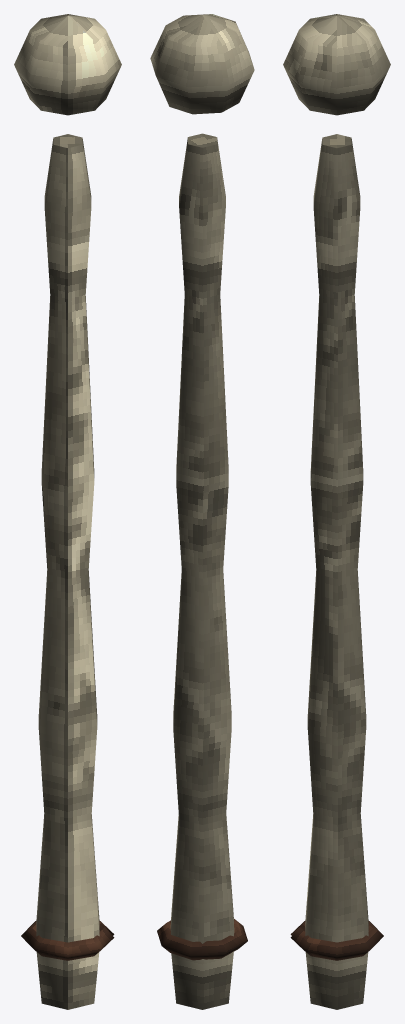
The model's file is bone_wand.glb.
The picture shows the model from 3 angles, left to right: view 1: azimuth 90°, elevation 25°; view 2: azimuth 210°, elevation 25°; view 3: azimuth 270°, elevation 25°; orthographic projection.
Visible parts, largest first — view 1: bone_wand; view 2: bone_wand; view 3: bone_wand.
Boxes of the visible parts, x1,y1,x2,y2 form: bone_wand: (14, 14, 121, 1009); bone_wand: (150, 14, 254, 1009); bone_wand: (283, 14, 390, 1009).
Bounding box in the file's own units: 0.032 × 0.321 × 0.032.
Materials: 1 (1 with a texture image).
